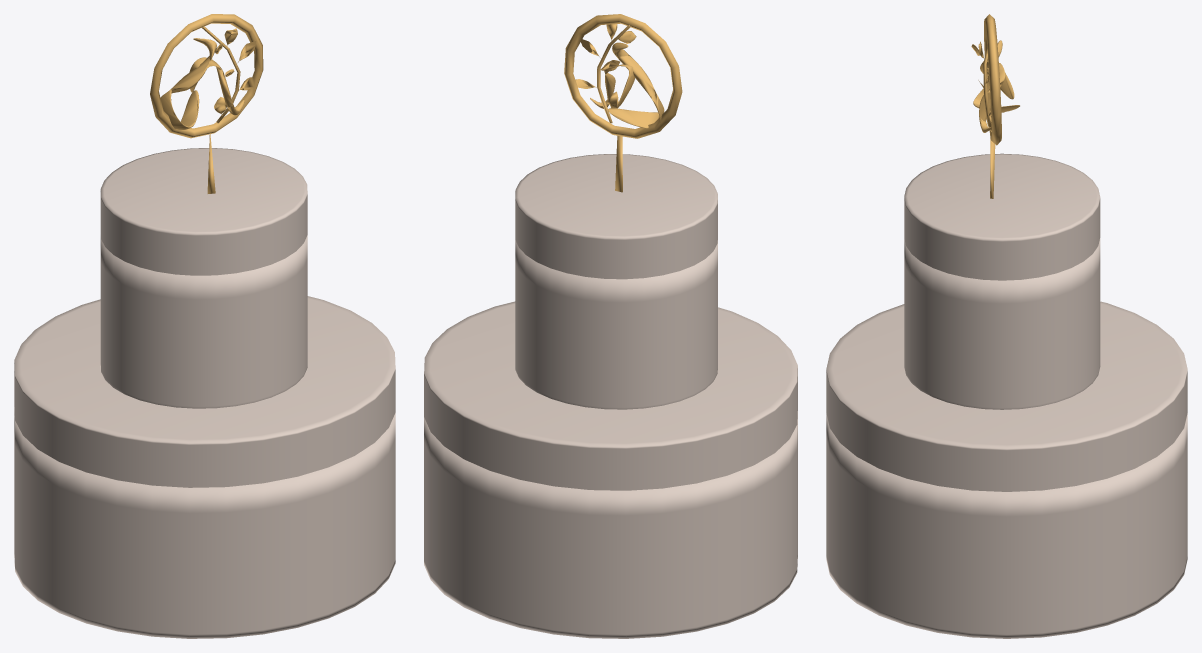
File: 2-tier-white-none-ring.glb
3 views of the same model, side by side, from view 1: azimuth 30°, elevation 25°; view 2: azimuth 150°, elevation 25°; view 3: azimuth 270°, elevation 25° (orthographic). The views are drawn at different scales.
Visible parts, largest first — view 1: Cylinder.023, Cylinder.013, Cylinder.011; view 2: Cylinder.023, Cylinder.013, Cylinder.011; view 3: Cylinder.023, Cylinder.013, Cylinder.011.
Part boxes in pixels (x1=…): Cylinder.023: x1=14, y1=296, x2=395, y2=638; Cylinder.013: x1=100, y1=148, x2=307, y2=408; Cylinder.011: x1=150, y1=14, x2=263, y2=193; Cylinder.023: x1=424, y1=301, x2=797, y2=638; Cylinder.013: x1=515, y1=154, x2=717, y2=409; Cylinder.011: x1=564, y1=14, x2=682, y2=192; Cylinder.023: x1=826, y1=301, x2=1187, y2=638; Cylinder.013: x1=904, y1=153, x2=1100, y2=409; Cylinder.011: x1=971, y1=14, x2=1019, y2=198.
Bounding box in the file's own units: 3.4 × 5.36 × 3.27.
